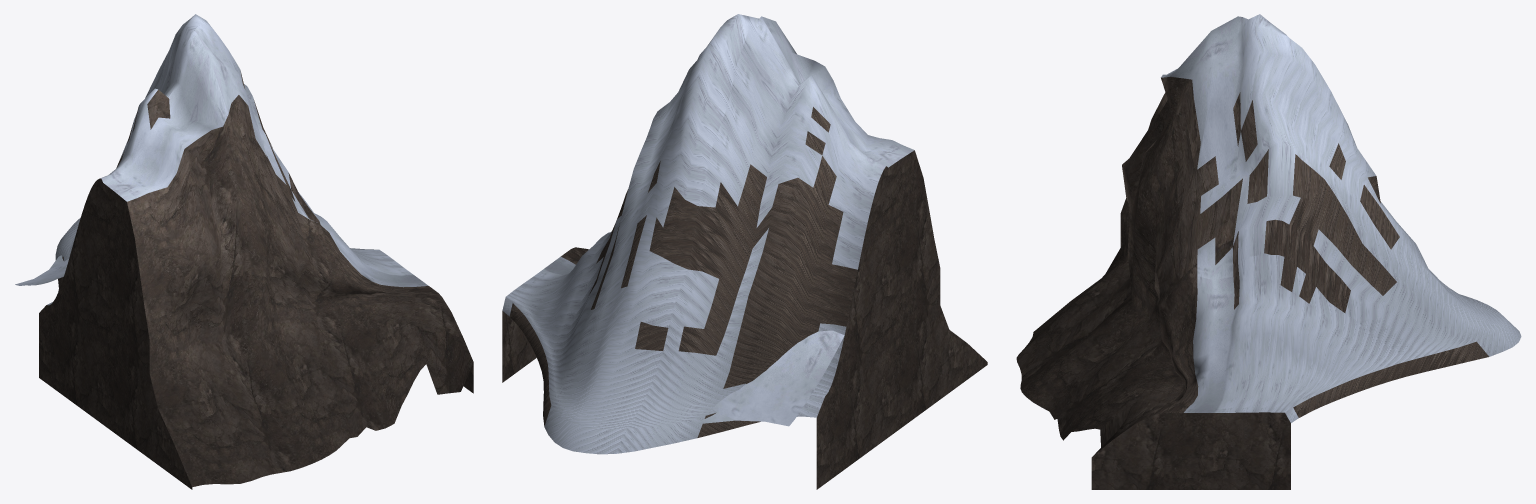
Rendered from seacliff_endcap_right_h3_a_v5_winter.glb.
3 renders of one model, left to right at view 1: azimuth 30°, elevation 25°; view 2: azimuth 150°, elevation 25°; view 3: azimuth 270°, elevation 25°, orthographic. The views are drawn at different scales.
Visible parts, largest first — view 1: seacliff_endcap_right_h3_a; view 2: seacliff_endcap_right_h3_a; view 3: seacliff_endcap_right_h3_a.
Part boxes in pixels (x1,y1,x2,y2): seacliff_endcap_right_h3_a: [15, 14, 473, 489]; seacliff_endcap_right_h3_a: [502, 14, 987, 489]; seacliff_endcap_right_h3_a: [1016, 14, 1521, 489].
Size of the model in its own units: 6 by 6.81 by 8.25.
2 materials, 2 textured.
